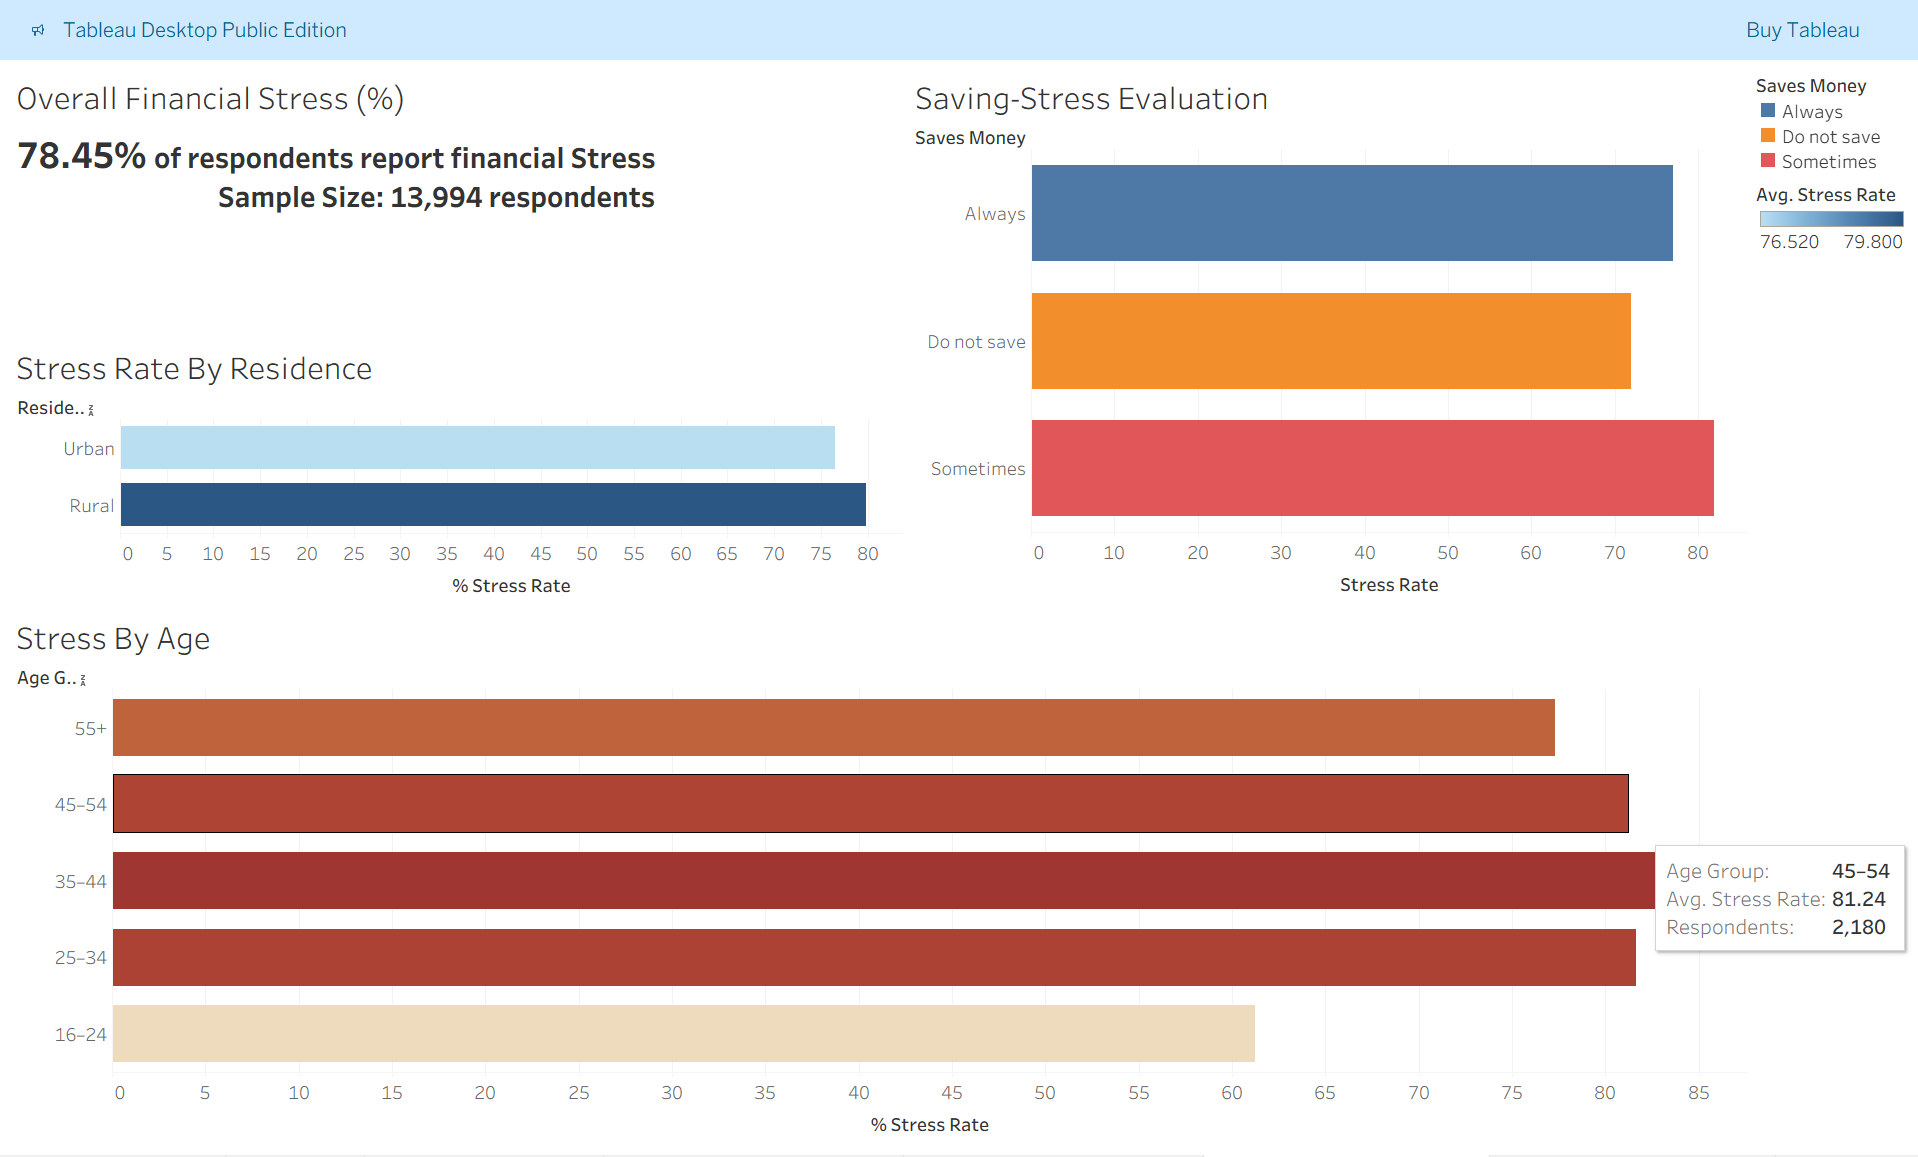

The dashboard page shown, as its layout file describes it:
{"tool":"tableau","page":{"name":"Dashboard 1","canvas":[1000,1000],"units":"permille","ordinal":0},"visuals":[{"type":"worksheet","title":"Overall Financial Stress (%)","mark":"Text","box":[5.8,9.2,450.4,245.4]},{"type":"worksheet","title":"Saving-Stress Evaluation","mark":"Automatic","rows":["Saves_Money"],"cols":["stress_rate"],"box":[456.1,9.2,423,490.8]},{"type":"legend","title":"Saving-Stress Evaluation","param":"[federated.0b259fy0eawaqd17w1hmk1hjonki].[none:Saves_Money:nk]","box":[879.1,9.2,115.1,125.9]},{"type":"legend","title":"Stress Rate By Residence","param":"[federated.1pbg3im1ewqwnr19nzwdf1wmdou4].[avg:stress_rate:qk]","box":[879.1,135.1,115.1,93.5]},{"type":"worksheet","title":"Stress Rate By Residence","mark":"Bar","rows":["Residence"],"cols":["stress_rate"],"box":[5.8,254.6,450.4,245.4]},{"type":"worksheet","title":"Stress By Age","mark":"Bar","rows":["age_group"],"cols":["stress_rate"],"box":[5.8,500,873.4,490.8]}]}

Visuals, with their boxes on the dashboard's canvas, which has no fixed pixel size, in thousandths of its width and height (x1, y1, x2, y2). These are canvas units, not pixel positions in the 1918x1157 screenshot, which may show the page scaled, cropped or inside an application window:
"Overall Financial Stress (%)" worksheet (Text marks): {"left": 6, "top": 9, "right": 456, "bottom": 255}
"Saving-Stress Evaluation" worksheet: {"left": 456, "top": 9, "right": 879, "bottom": 500}
"Saving-Stress Evaluation" legend: {"left": 879, "top": 9, "right": 994, "bottom": 135}
"Stress Rate By Residence" legend: {"left": 879, "top": 135, "right": 994, "bottom": 229}
"Stress Rate By Residence" worksheet (Bar marks): {"left": 6, "top": 255, "right": 456, "bottom": 500}
"Stress By Age" worksheet (Bar marks): {"left": 6, "top": 500, "right": 879, "bottom": 991}
